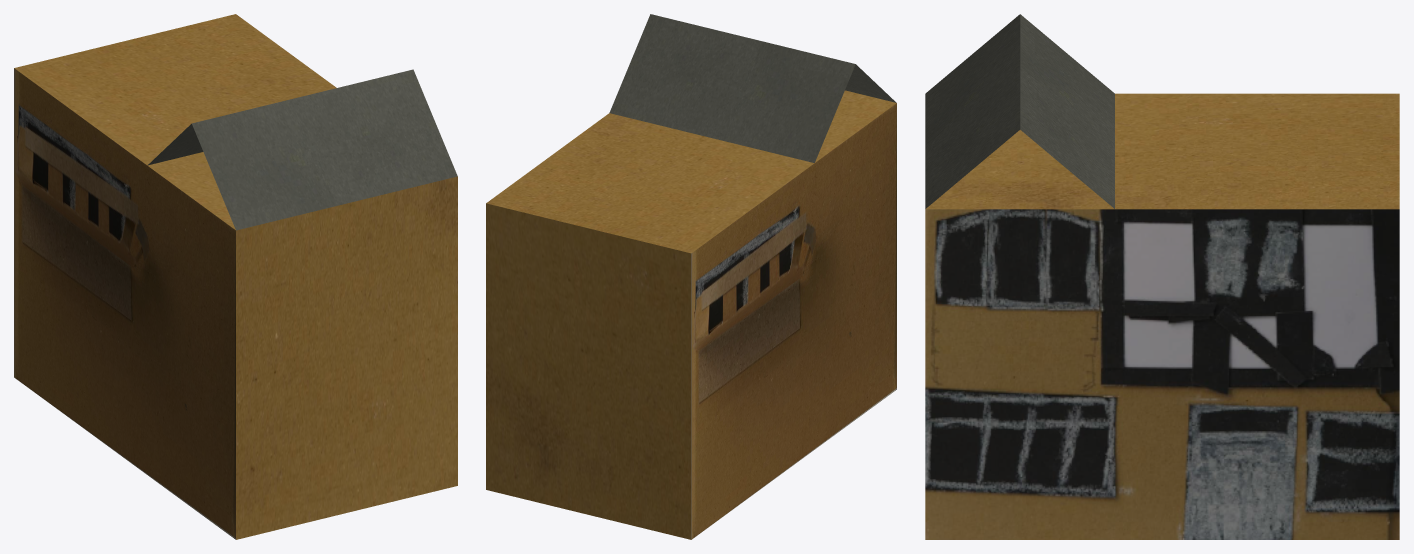
3 views of the same model, side by side, from view 1: azimuth 30°, elevation 25°; view 2: azimuth 150°, elevation 25°; view 3: azimuth 270°, elevation 25° (orthographic). The views are drawn at different scales.
Parts seen in each view (by area): view 1: Cube Outer, Roof, Cube.002; view 2: Cube Outer, Roof, Cube.002; view 3: Cube Outer, Roof.
Part boxes in pixels (bbox=[...]): Cube Outer: bbox=[14, 68, 457, 539]; Roof: bbox=[14, 14, 457, 230]; Cube.002: bbox=[147, 124, 203, 165]; Cube Outer: bbox=[486, 103, 896, 539]; Roof: bbox=[486, 14, 896, 253]; Cube.002: bbox=[845, 64, 896, 102]; Cube Outer: bbox=[925, 209, 1399, 539]; Roof: bbox=[925, 14, 1399, 209].
Bounding box in the file's own units: 7.5 × 12.41 × 13.
Materials: 1 (1 with a texture image).
